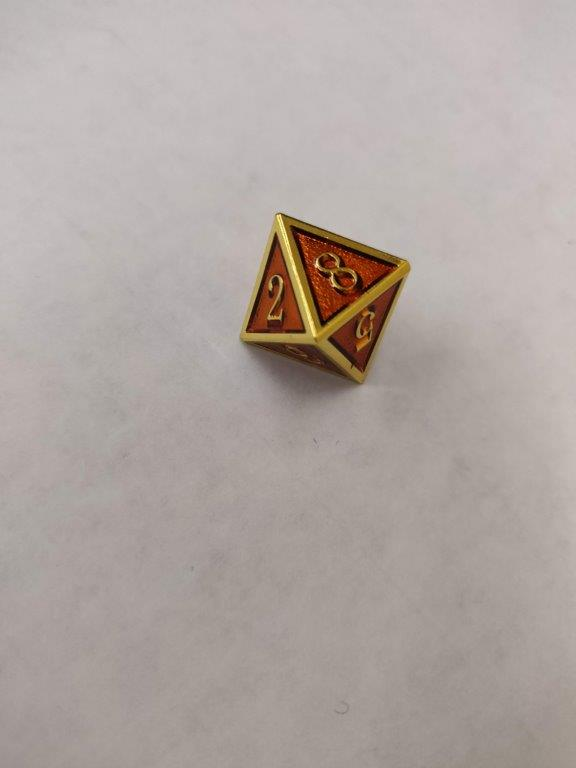d8-8: (238, 209, 411, 384)
